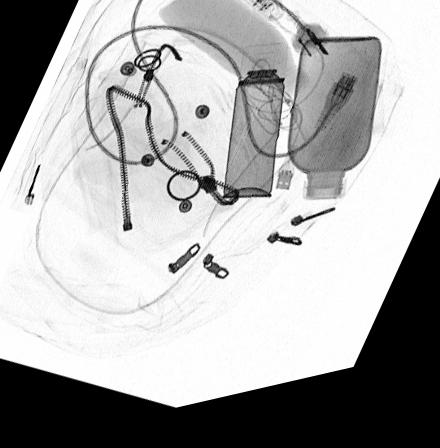Sprayer: (222, 55, 290, 209)
